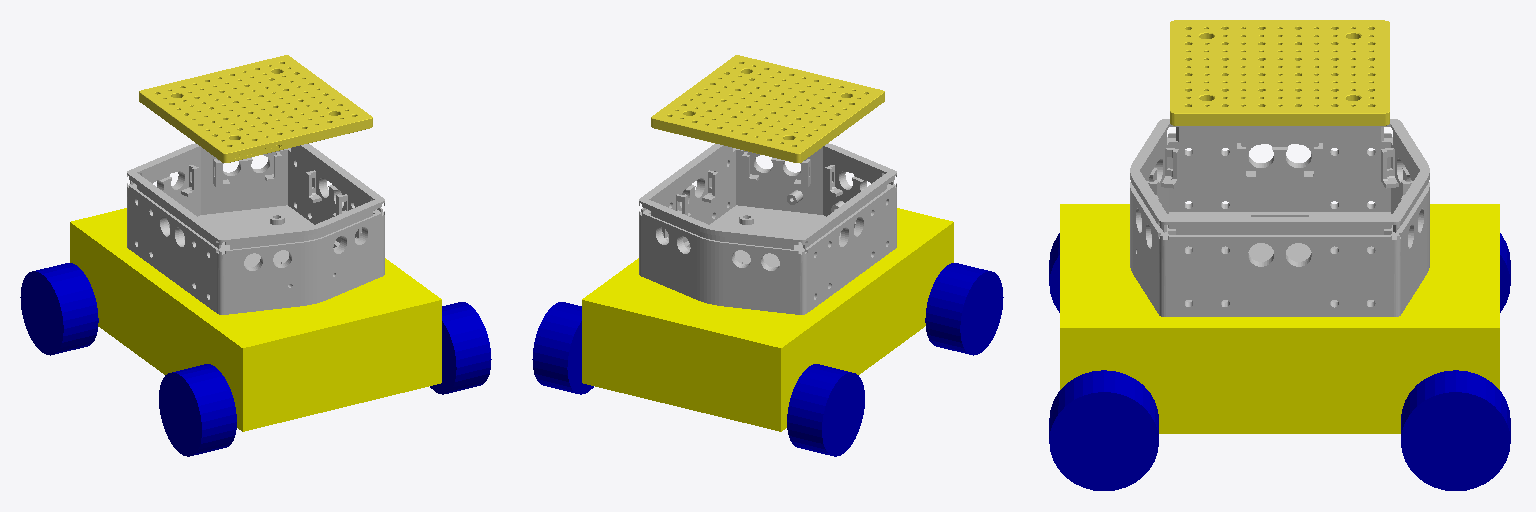
robot.urdf — mobi:
<?xml version="1.0"?>
<robot name="mobi">

  <material name="blue">
    <color rgba="0 0 0.8 1"/>
  </material>

  <material name="yellow">
    <color rgba="1 1 0 1"/>
  </material>

  <material name="gray">
    <color rgba="0.8 0.8 0.8 1"/>
  </material>


  <!-- Gemoetry -->
  <link name="base_link">
  </link>

  <link name="chassis">
    <visual>
      <geometry>
        <box size="0.2 0.3 0.08"/>
      </geometry>
      <origin rpy="0 0 0" xyz="0 0 0"/>
      <material name="yellow"/>
    </visual>
  </link>

  <joint name="chassis_joint" type="fixed">
    <parent link="base_link"/>
    <child link="chassis"/>
  </joint>

  <link name="body">
    <visual>
      <geometry>
        <!-- <box size="0.17 0.2 0.07"/> -->
        <mesh filename="package://mobi_rviz/meshes/Housing_v54.stl" scale="0.001 0.001 0.001" />
      </geometry>
      <material name="gray"/>
      <origin rpy="0 0 1.57075" xyz="-0.075 0.1 -0.035"/>
    </visual>
  </link>

  <joint name="body_joint" type="fixed">
    <parent link="chassis"/>
    <child link="body"/>
    <origin rpy="0 0 0" xyz="0 0 0.075"/>
  </joint>

  <link name="top_plate">
    <visual>
      <geometry>
        <!-- <box size="0.15 0.15 0.02"/> -->
        <mesh filename="package://mobi_rviz/meshes/msb15_m-step.stl" scale="0.001 0.001 0.001" />
      </geometry>
      <origin rpy="1.57075 0 0" xyz="0 0 0"/>
    </visual>
  </link>

  <joint name="top_plate_joint" type="fixed">
    <parent link="body"/>
    <child link="top_plate"/>
    <origin rpy="0 0 0" xyz="0 0 0.11"/>
  </joint>


  <!-- Wheels -->

  <link name="front_right_wheel">
    <visual>
      <geometry>
        <cylinder length="0.035" radius="0.0375"/>
      </geometry>
      <material name="blue"/>
    </visual>
  </link>

  <joint name="front_right_wheel_joint" type="continuous">
    <parent link="chassis"/>
    <child link="front_right_wheel"/>
    <origin xyz="0.1275 0.12 -0.025" rpy="1.5707 0 1.5707"/>
    <axis xyz="0 0 -1"/>
  </joint>

  <link name="front_left_wheel">
    <visual>
      <geometry>
        <cylinder length="0.035" radius="0.0375"/>
      </geometry>
      <material name="blue"/>
    </visual>
  </link>

  <joint name="front_left_wheel_joint" type="continuous">
    <parent link="chassis"/>
    <child link="front_left_wheel"/>
    <origin xyz="-0.1275 0.12 -0.025" rpy="-1.5707 0 1.5707"/>
    <axis xyz="0 0 1"/>
  </joint>

  <link name="rear_right_wheel">
    <visual>
      <geometry>
        <cylinder length="0.035" radius="0.0375"/>
      </geometry>
      <material name="blue"/>
    </visual>
  </link>

  <joint name="rear_right_wheel_joint" type="continuous">
    <parent link="chassis"/>
    <child link="rear_right_wheel"/>
    <origin xyz="0.1275 -0.12 -0.025" rpy="1.5707 0 1.5707"/>
    <axis xyz="0 0 -1"/>
  </joint>

  <link name="rear_left_wheel">
    <visual>
      <geometry>
        <cylinder length="0.035" radius="0.0375"/>
      </geometry>
      <material name="blue"/>
    </visual>
  </link>

  <joint name="rear_left_wheel_joint" type="continuous">
    <parent link="chassis"/>
    <child link="rear_left_wheel"/>
    <origin xyz="-0.1275 -0.12 -0.025" rpy="-1.5707 0 1.5707"/>
    <axis xyz="0 0 1"/>
  </joint>

</robot>

--- Render facts (derived) ---
The picture shows the robot from 3 angles, left to right: view 1: azimuth 30°, elevation 25°; view 2: azimuth 150°, elevation 25°; view 3: azimuth 270°, elevation 25°; orthographic projection.
Robot: mobi — 8 links, 7 joints (4 continuous, 3 fixed); root link base_link; default pose: every joint at zero.
Visible links, largest first — view 1: chassis, body, top_plate, rear_left_wheel, front_left_wheel, rear_right_wheel; view 2: chassis, body, top_plate, front_left_wheel, rear_left_wheel, front_right_wheel; view 3: chassis, body, top_plate, front_right_wheel, rear_right_wheel, front_left_wheel, rear_left_wheel.
Boxes of the visible links, x1,y1,x2,y2 form: chassis: (70, 208, 441, 431); body: (127, 143, 384, 314); top_plate: (139, 55, 372, 162); rear_left_wheel: (159, 364, 236, 456); front_left_wheel: (20, 263, 98, 355); rear_right_wheel: (430, 302, 491, 394); chassis: (582, 208, 953, 431); body: (639, 143, 896, 314); top_plate: (651, 55, 884, 162); front_left_wheel: (787, 364, 864, 456); rear_left_wheel: (925, 263, 1003, 355); front_right_wheel: (532, 302, 593, 394); chassis: (1060, 204, 1499, 433); body: (1130, 119, 1429, 316); top_plate: (1170, 20, 1389, 125); front_right_wheel: (1401, 370, 1510, 490); rear_right_wheel: (1049, 370, 1158, 490); front_left_wheel: (1500, 233, 1510, 312); rear_left_wheel: (1049, 233, 1059, 312).
Size in the robot's own frame: 0.29 by 0.315 by 0.2523 metres.
Meshes: 2 distinct files referenced, 2 mesh visuals loaded (2 binary STL).